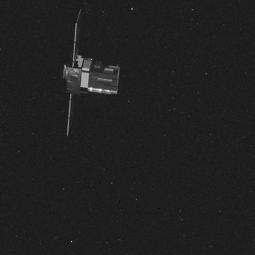soho: (54, 5, 117, 137)
